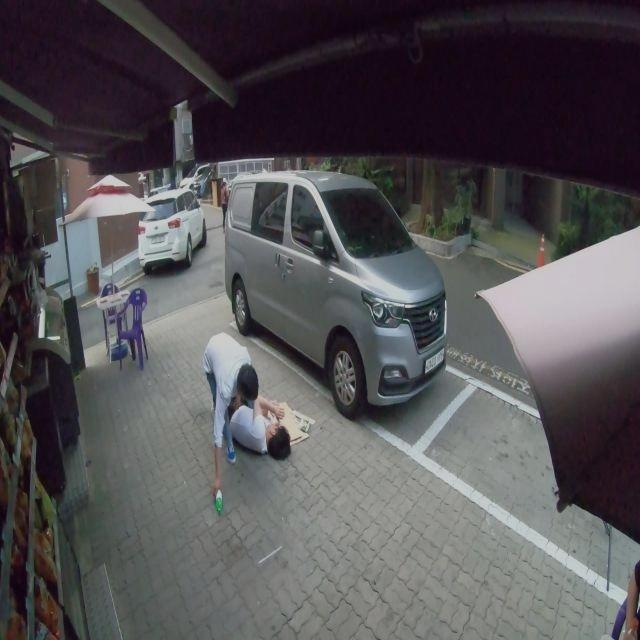fight: (199, 326, 303, 498)
